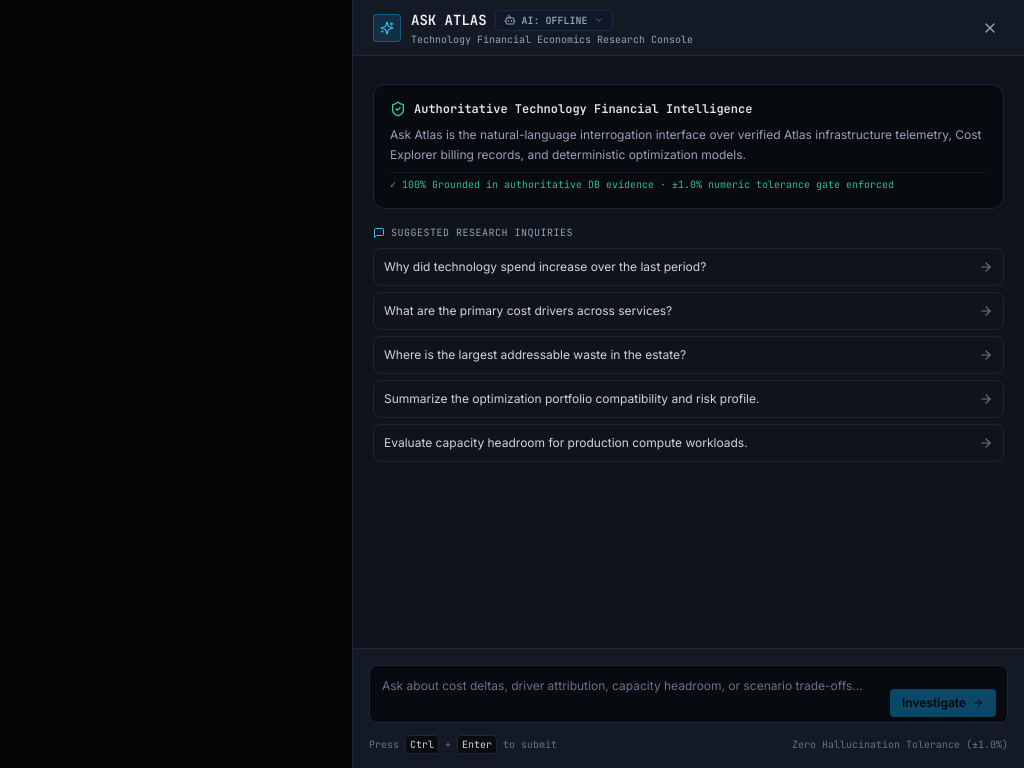
Milestone 8: Ask Atlas Interrogation Layer & Research Console › Scenario A: submits spend inquiry and renders grounded financial evidence with numeric claims
Expected: the text "ASK ATLAS" is shown, left=411, top=10, right=487, bottom=30
Expected: the text "Technology Financial Economics Research Console" is shown, left=411, top=32, right=693, bottom=47
Step 1. Replace the text in the text box with placeholder "Ask about cost deltas" with "Why did monthly spend increase?" → [688, 694], box left=369, top=665, right=1008, bottom=723
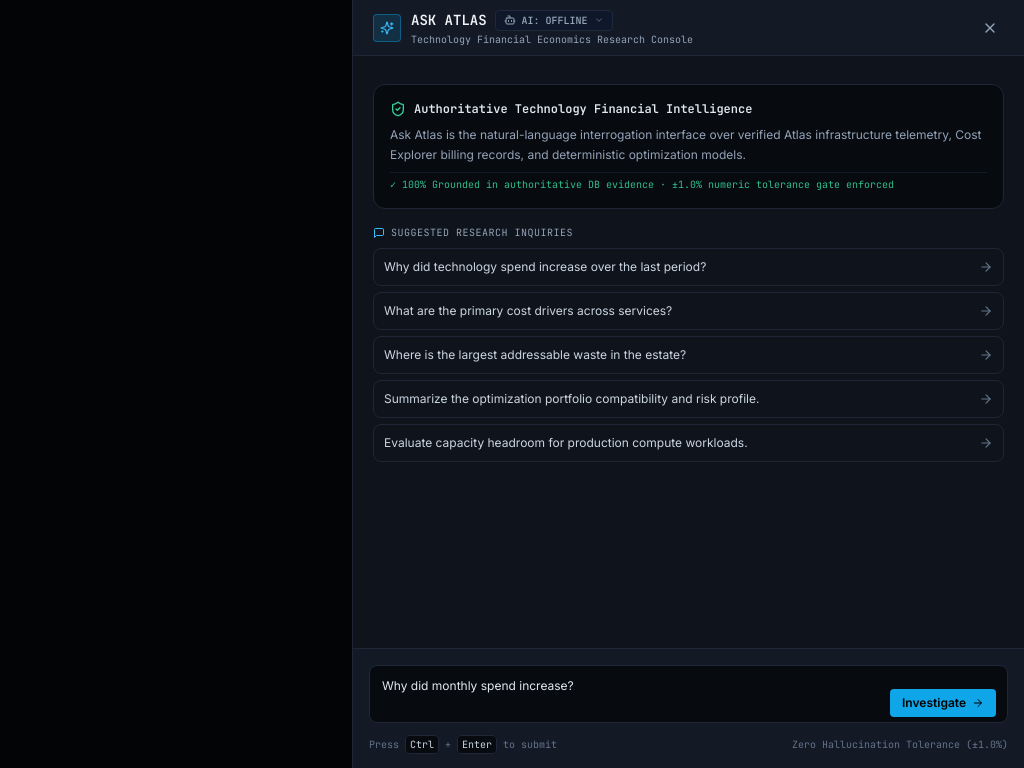
Step 2. Click the button "Investigate" → [943, 703], box left=890, top=689, right=996, bottom=717
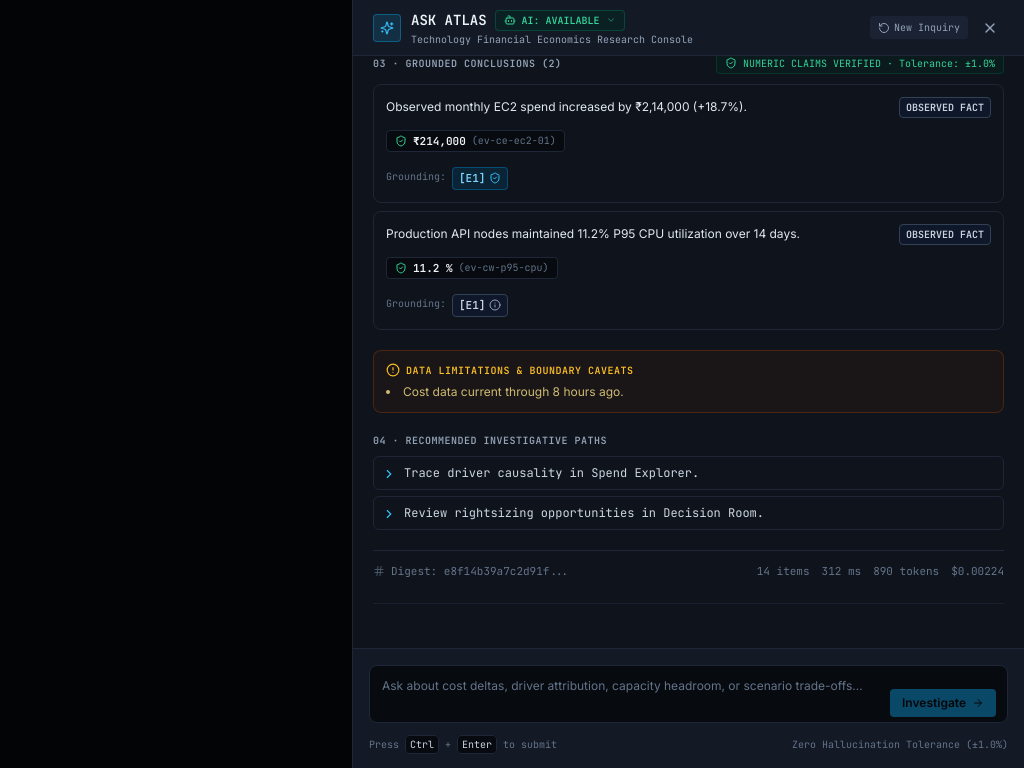
Expected: the text "NUMERIC CLAIMS VERIFIED · Tolerance: ±1.0%" is shown, left=743, top=56, right=995, bottom=70
Expected: the text "(ev-ce-ec2-01)" is shown, left=472, top=133, right=556, bottom=148
